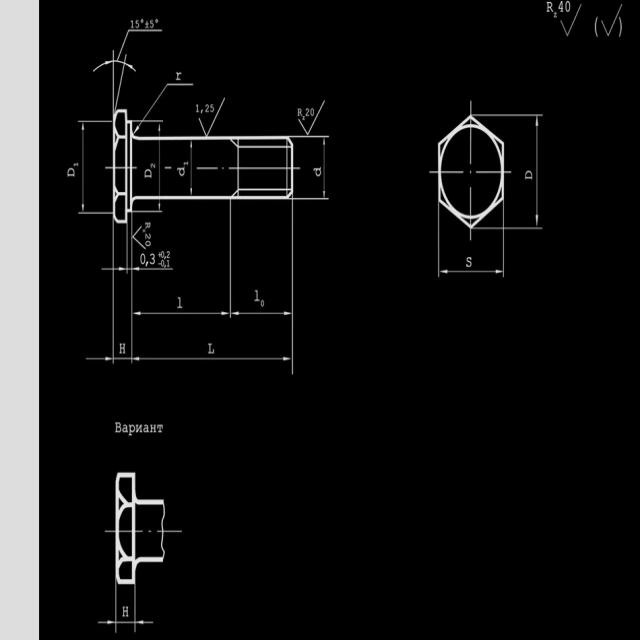marking_line: (93, 57, 137, 111), (133, 355, 293, 363), (134, 308, 228, 318), (534, 118, 540, 227), (188, 139, 197, 196), (79, 124, 85, 208), (157, 124, 163, 208), (232, 310, 291, 316), (440, 269, 502, 274), (134, 266, 178, 273), (322, 139, 326, 196), (101, 265, 126, 274), (98, 615, 115, 628), (136, 617, 154, 628), (84, 356, 113, 362)
numeric: (129, 19, 160, 29), (193, 101, 214, 115), (558, 1, 573, 13), (306, 106, 317, 119)
special_symbol: (134, 82, 193, 134), (116, 28, 166, 61), (601, 5, 623, 36), (131, 223, 153, 251), (558, 12, 580, 37), (199, 118, 216, 136), (299, 118, 318, 134)
